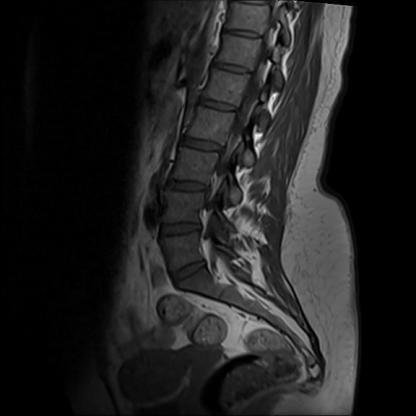Degenerative Disc Diseaserotation: (157, 220, 207, 241)
